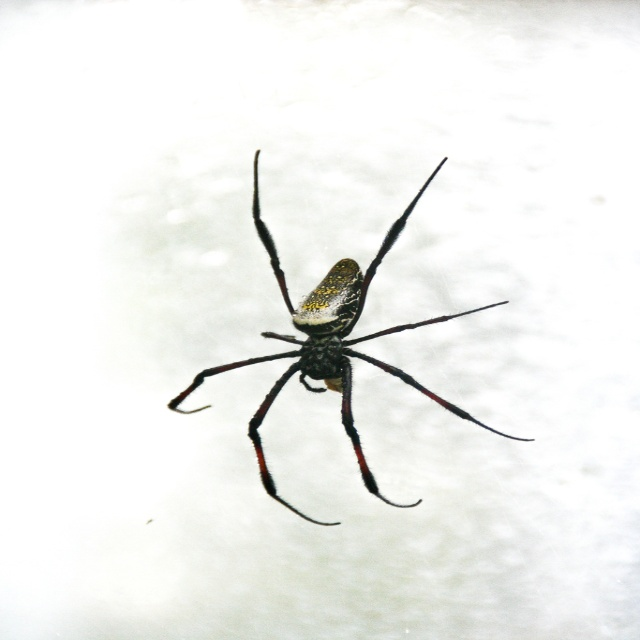Spider: (167, 149, 535, 526)
